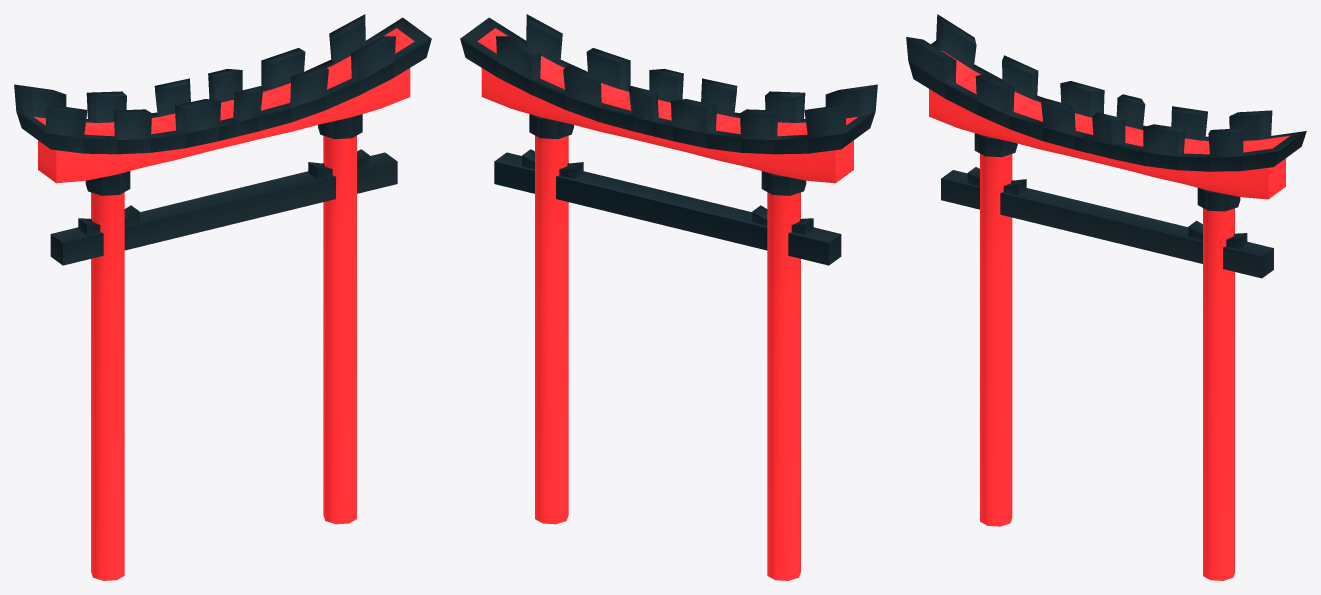
File: ToriiTexture.fbx
3 views of the same model, side by side, from view 1: azimuth 30°, elevation 25°; view 2: azimuth 150°, elevation 25°; view 3: azimuth 330°, elevation 25° (orthographic). The views are drawn at different scales.
Parts seen in each view (by area): view 1: Torii; view 2: Torii; view 3: Torii.
Boxes of the visible parts, x1,y1,x2,y2 form: Torii: (14,14,431,580); Torii: (460,14,877,580); Torii: (906,14,1306,580).
Size of the model in its own units: 5.26 by 6.44 by 0.7643.
